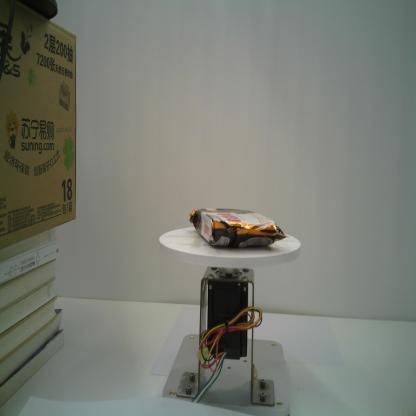Dessert: (187, 205, 290, 252)
